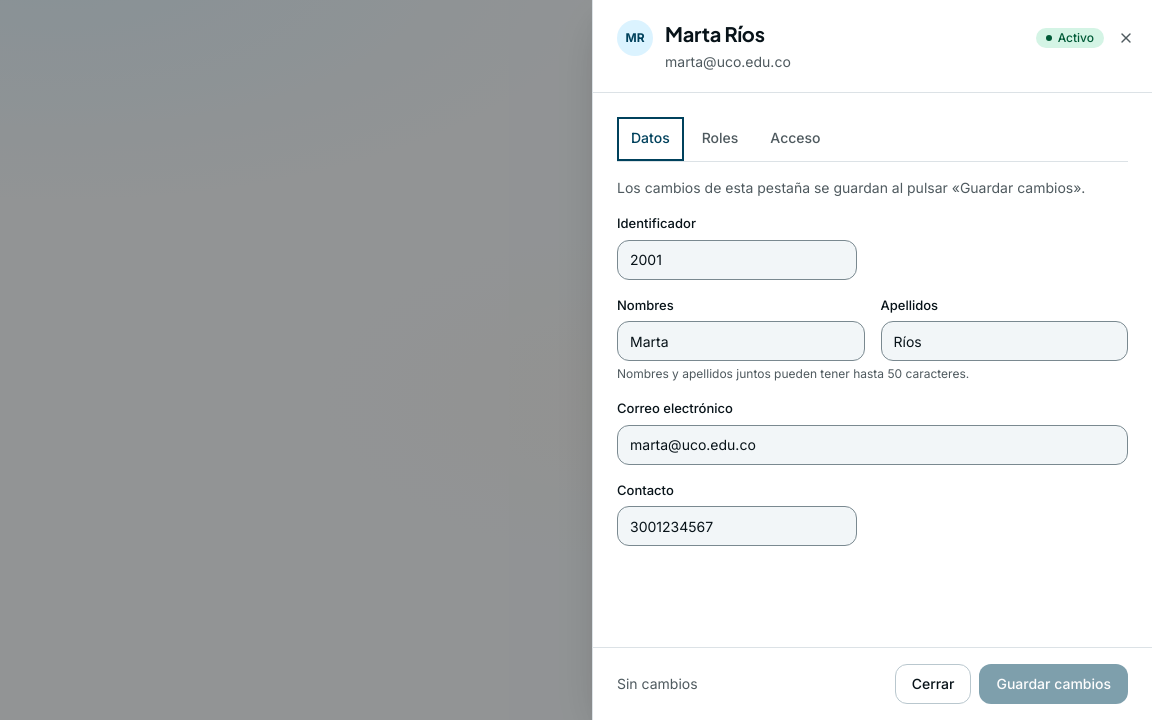
EditarUsuarioPanel › con cambios sin guardar en Datos, el botón de las pestañas Roles y Acceso dice "Cancelar" y pide descartarlos
The width and height of the screenshot is (1152, 720).
Check: the field labelled "Nombres" is shown, box [617,321,864,361]
In the field labelled "Contacto": (737, 526) [617,506,857,546], type "0"
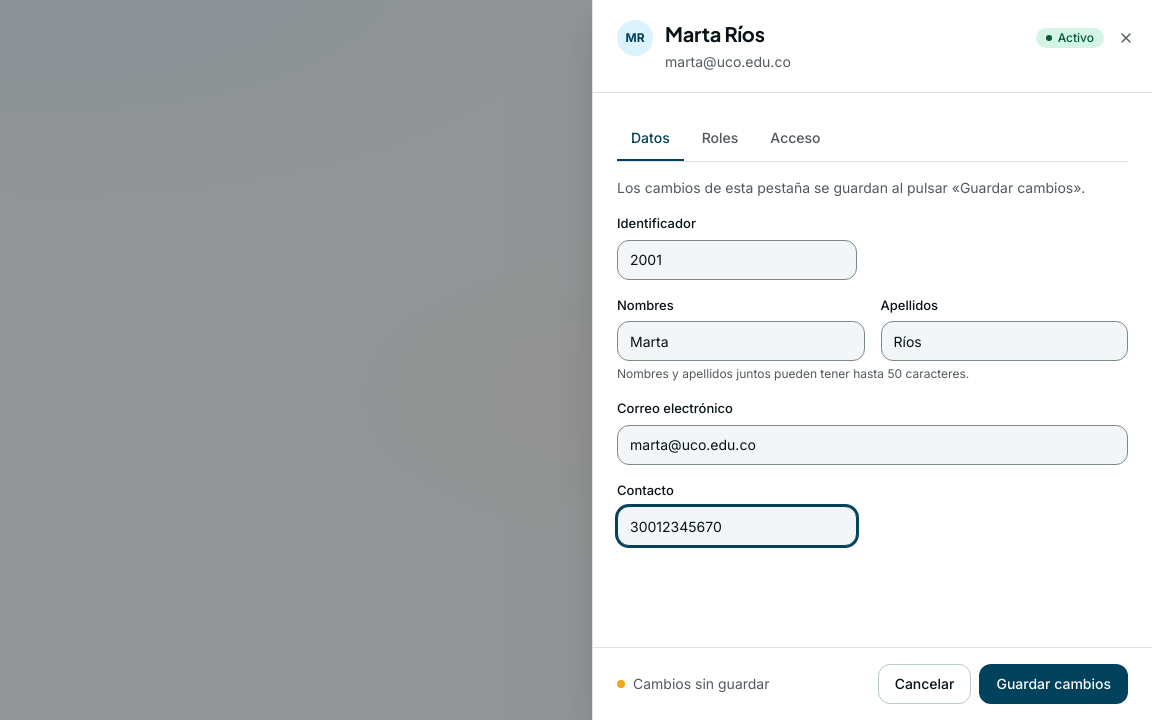
Click the tab "Roles": (720, 139) [688,117,752,161]
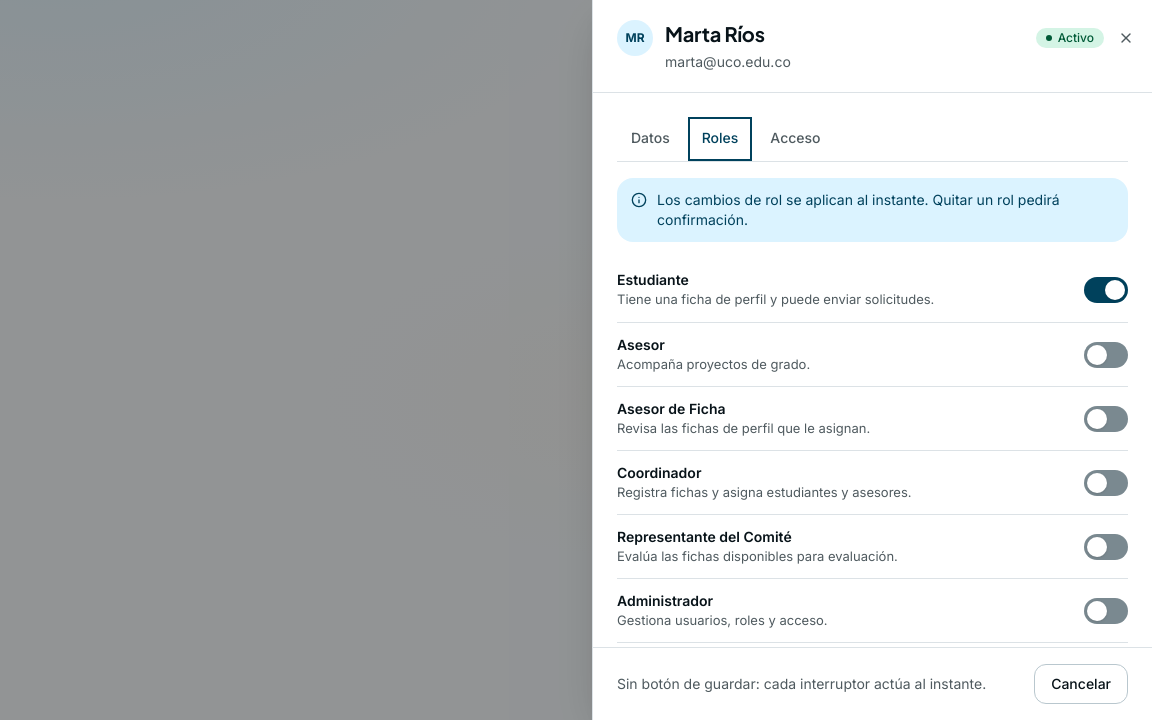
Check: the button "Cerrar" is not shown
Click the button "Cancelar": (1081, 684) [1034,664,1128,704]
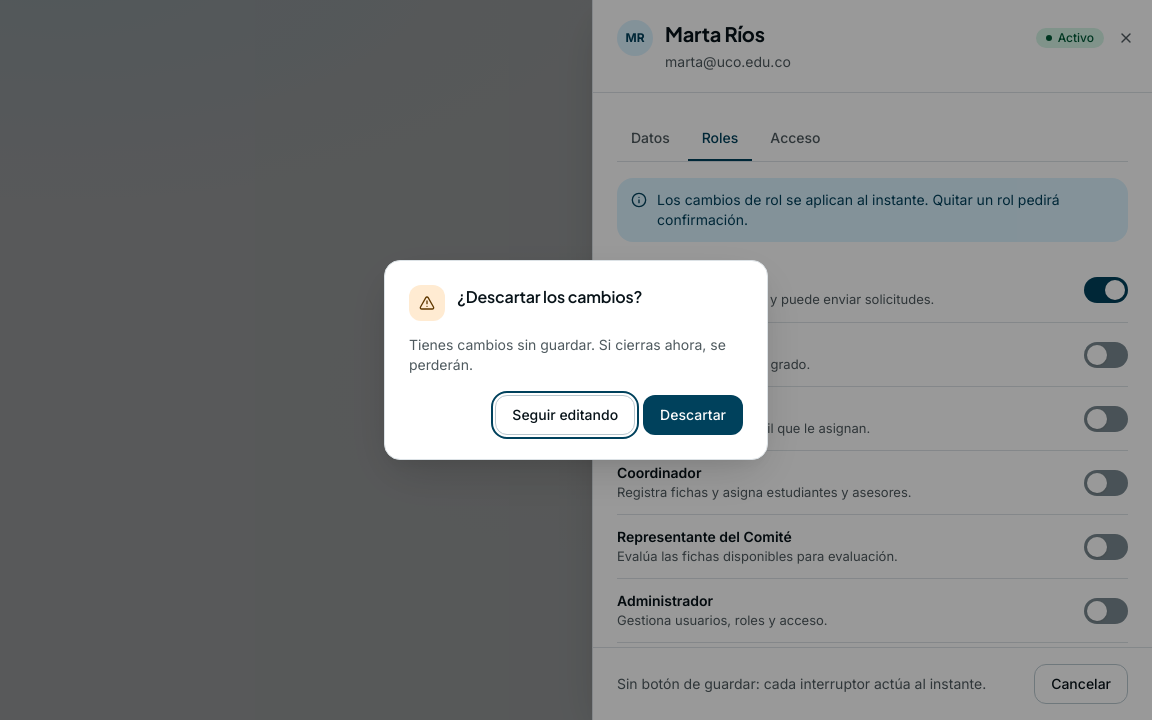
Check: the dialog "Descartar los cambios" is shown, box [384,260,768,460]
